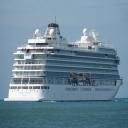cruises: (4, 16, 127, 106)
